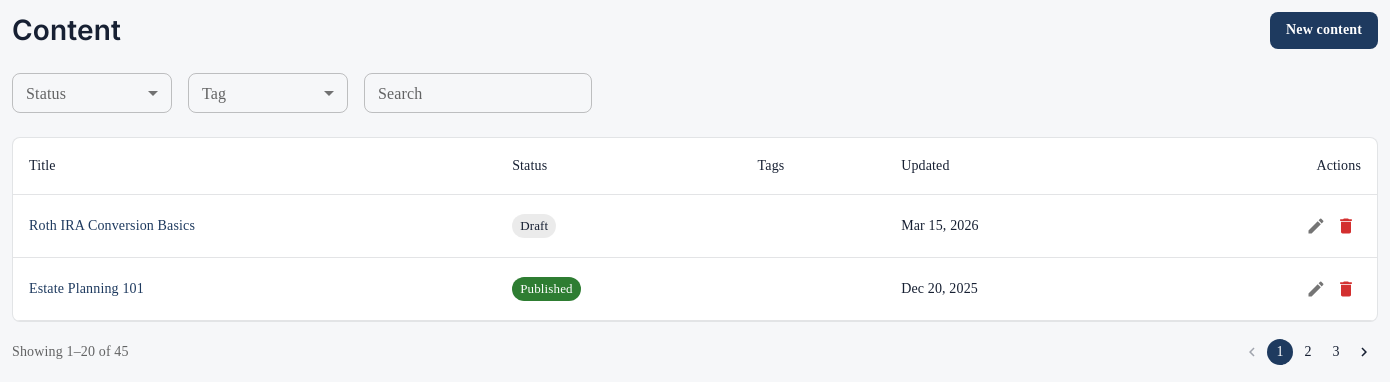
Test case: ContentListScreen pagination › clicking next page issues a GET request with page=2
This screenshot has width=1390, height=382.
expect the row "Roth IRA Conversion Basics Draft Mar 15, 2026" is shown: met, box 13,194 -> 1377,257
Click the button named "Go to next page" at point(1364, 352), box 1351,339 -> 1377,365
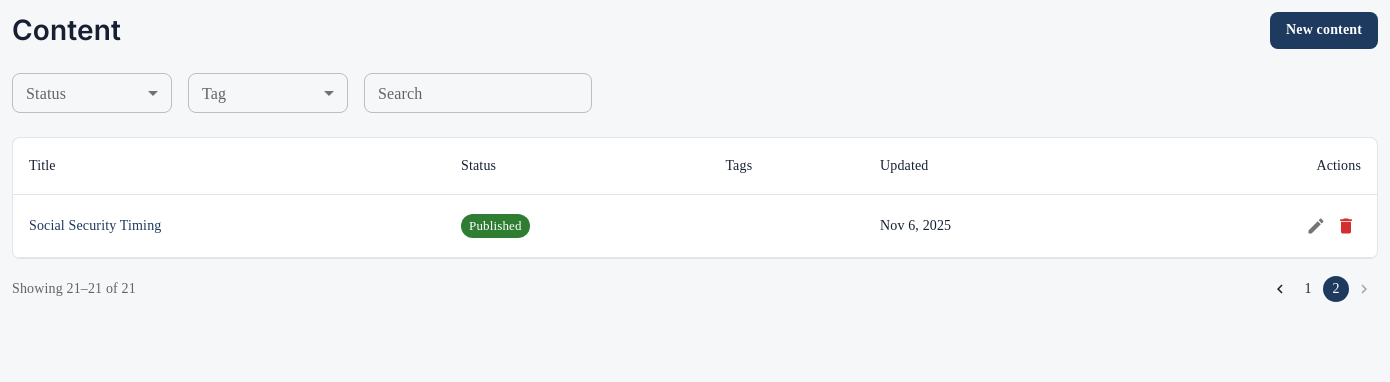
expect the row "Social Security Timing Published Nov 6, 2025" is shown: met, box 13,194 -> 1377,257
